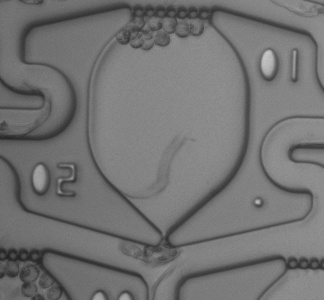AptNum: (248, 44, 310, 89)
Marker: (243, 188, 273, 215)
StNum: (24, 156, 86, 206)
